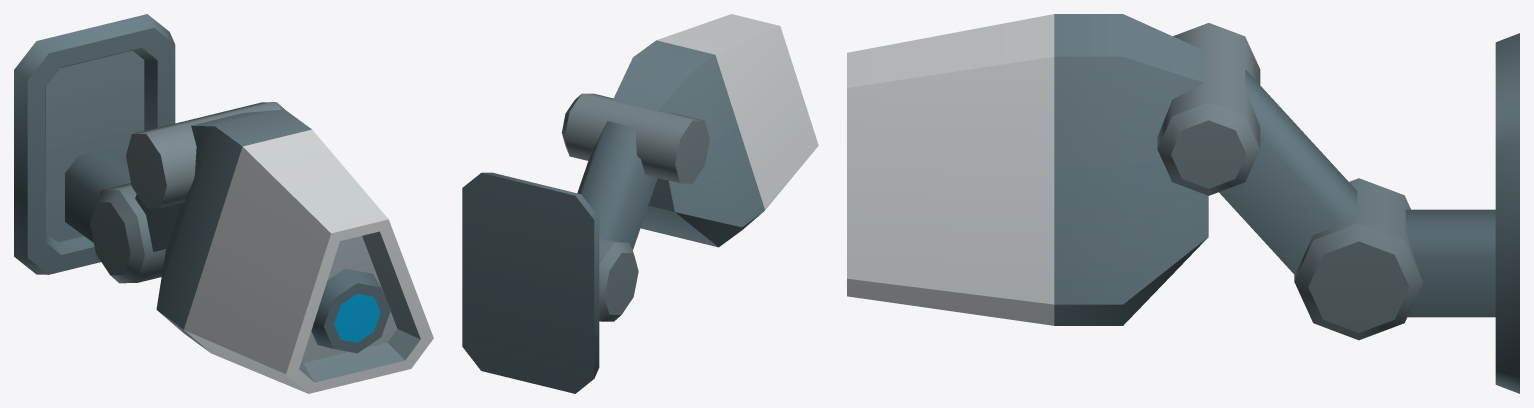
File: Security_cam_005.fbx
The picture shows the model from 3 angles, left to right: view 1: azimuth 30°, elevation 25°; view 2: azimuth 150°, elevation 25°; view 3: azimuth 270°, elevation 25°; orthographic projection. The views are drawn at different scales.
Parts seen in each view (by area): view 1: Security_cam_005; view 2: Security_cam_005; view 3: Security_cam_005.
Part boxes in pixels (left/top/right/bottom): Security_cam_005: left=14, top=14, right=433, bottom=393; Security_cam_005: left=462, top=14, right=818, bottom=393; Security_cam_005: left=847, top=14, right=1519, bottom=393.
Bounding box in the file's own units: 20.57 × 51.05 × 27.18.
